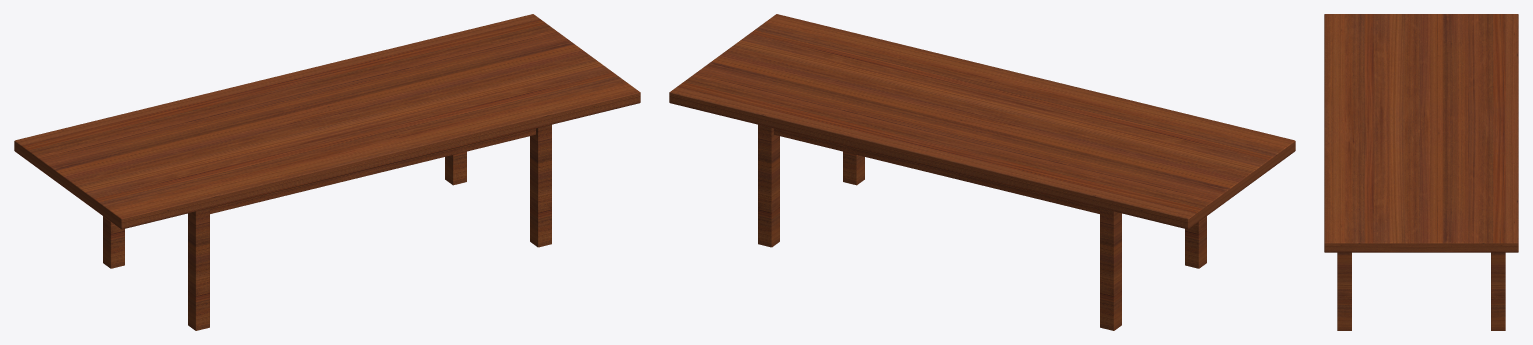
Rendered from IKE160077.obj.
3 views of the same model, side by side, from view 1: azimuth 30°, elevation 25°; view 2: azimuth 150°, elevation 25°; view 3: azimuth 270°, elevation 25° (orthographic). The views are drawn at different scales.
Parts seen in each view (by area): view 1: ChamferBox001, Line005, Line006, Line012, Line008, Line007; view 2: ChamferBox001, Line008, Line007, Line013, Line005, Line006; view 3: ChamferBox001, Line006, Line007.
Part boxes in pixels (x1,y1,x2,y2): ChamferBox001: (14, 14, 640, 229); Line005: (188, 208, 209, 330); Line006: (530, 124, 551, 247); Line012: (210, 128, 535, 213); Line008: (103, 216, 124, 268); Line007: (445, 151, 466, 185); ChamferBox001: (669, 14, 1295, 229); Line008: (1100, 208, 1121, 330); Line007: (758, 124, 779, 247); Line013: (774, 128, 1099, 213); Line005: (1185, 216, 1206, 268); Line006: (843, 151, 864, 185); ChamferBox001: (1324, 14, 1518, 252); Line006: (1337, 252, 1351, 330); Line007: (1491, 252, 1505, 330).
Bounding box in the file's own units: 2930 × 740 × 1050.
